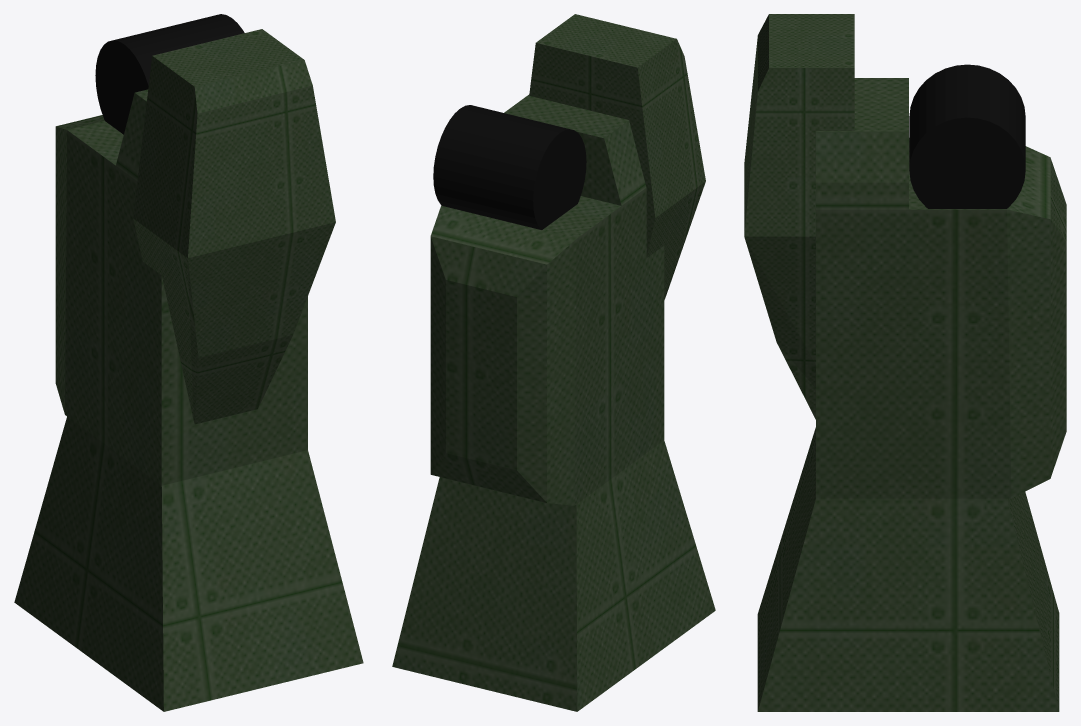
File: pantorrilla_der.obj
The picture shows the model from 3 angles, left to right: view 1: azimuth 30°, elevation 25°; view 2: azimuth 150°, elevation 25°; view 3: azimuth 270°, elevation 25°; orthographic projection. The views are drawn at different scales.
Parts seen in each view (by area): view 1: pantorrilla_der; view 2: pantorrilla_der; view 3: pantorrilla_der.
Boxes of the visible parts, x1,y1,x2,y2 form: pantorrilla_der: (14,14,363,711); pantorrilla_der: (392,14,715,711); pantorrilla_der: (744,14,1066,711).
Size of the model in its own units: 2 by 5.86 by 2.77.
2 materials, 1 textured.
